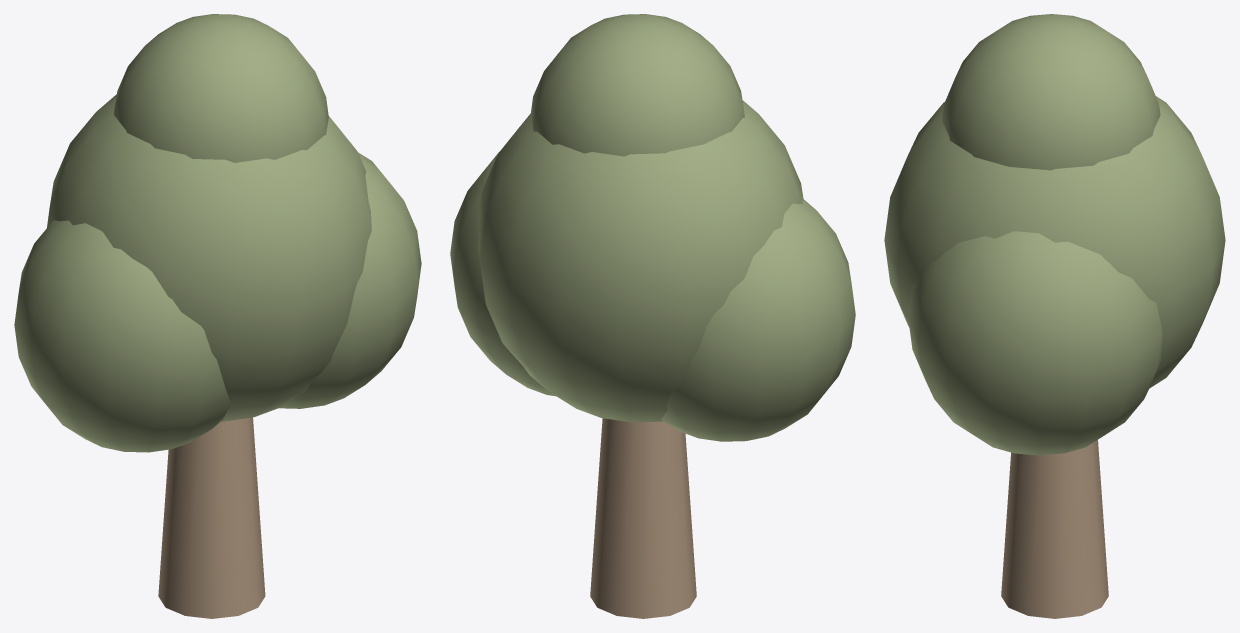
The model's file is tree.glb.
The picture shows the model from 3 angles, left to right: view 1: azimuth 30°, elevation 25°; view 2: azimuth 150°, elevation 25°; view 3: azimuth 270°, elevation 25°; orthographic projection.
Visible parts, largest first — view 1: NW92 soft tree NW92_leaf, NW92 soft tree NW92_bark; view 2: NW92 soft tree NW92_leaf, NW92 soft tree NW92_bark; view 3: NW92 soft tree NW92_leaf, NW92 soft tree NW92_bark.
Boxes of the visible parts, x1,y1,x2,y2 form: NW92 soft tree NW92_leaf: (14, 14, 421, 452); NW92 soft tree NW92_bark: (158, 417, 265, 618); NW92 soft tree NW92_leaf: (450, 14, 855, 441); NW92 soft tree NW92_bark: (590, 418, 696, 618); NW92 soft tree NW92_leaf: (884, 14, 1225, 455); NW92 soft tree NW92_bark: (1001, 440, 1108, 618).
Size of the model in its own units: 3.88 by 5.67 by 3.04.
